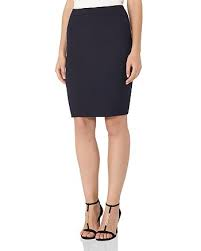F_tailored skirt: (56, 3, 141, 121)
